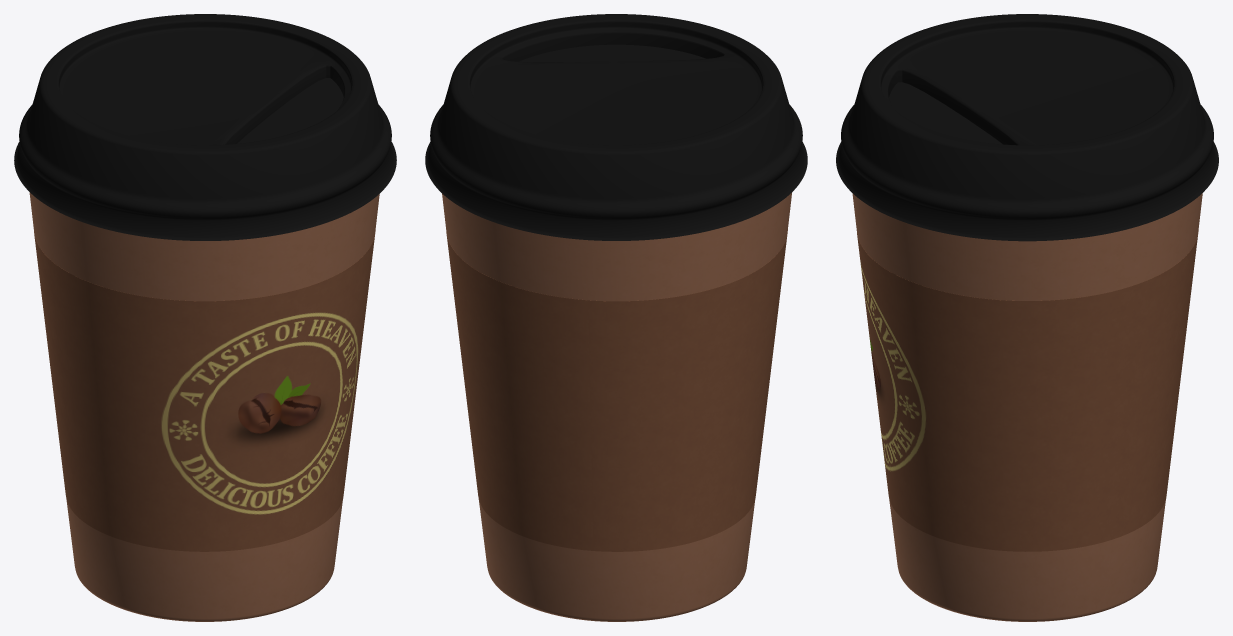
Rendered from coffee_cup.glb.
3 views of the same model, side by side, from view 1: azimuth 30°, elevation 25°; view 2: azimuth 150°, elevation 25°; view 3: azimuth 270°, elevation 25° (orthographic).
Parts seen in each view (by area): view 1: coffee_cup_1; view 2: coffee_cup_1; view 3: coffee_cup_1.
Boxes of the visible parts, x1,y1,x2,y2 form: coffee_cup_1: [14, 14, 396, 621]; coffee_cup_1: [425, 14, 807, 621]; coffee_cup_1: [836, 14, 1218, 621].
Size of the model in its own units: 0.5217 by 0.7324 by 0.5217.
1 material, 1 textured.
